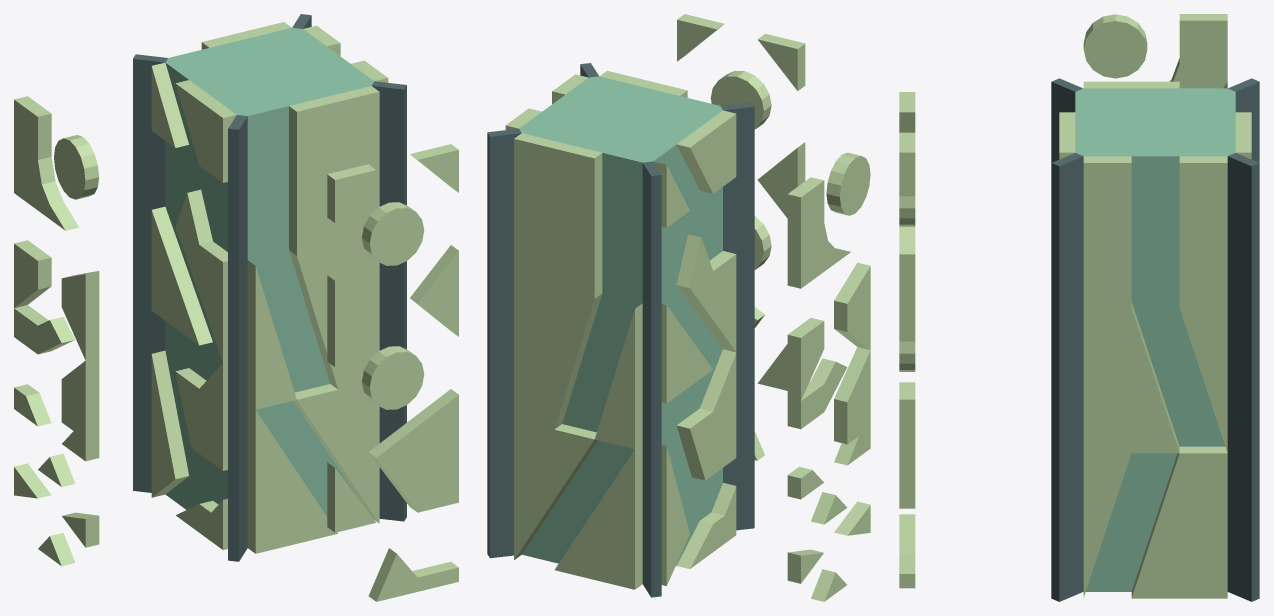
File: cryptex balls out deneme 05.fbx
3 views of the same model, side by side, from view 1: azimuth 30°, elevation 25°; view 2: azimuth 150°, elevation 25°; view 3: azimuth 270°, elevation 25° (orthographic). The views are drawn at different scales.
Parts seen in each view (by area): view 1: Cube.094, path 01.001, Cube.053, Cube.083, Cube.089, Cube.090, path 03.002, path 02.001, Cube.088, path 03.001, path 17.002, path 16.001 (+32 smaller); view 2: Cube.094, path 07.001, Cube.053, Cube.090, path 08.001, Cube.083, Cube.089, Cube.088, path 09.002, path 09.001, path 17.002, path 17.001 (+27 smaller); view 3: Cube.094, Cube.053, path 06.001, path 05.001, Cube.083, Cube.090, path 04.001, path 04.002, Cube.089, Cube.088, path 16.001, path 06.002 (+15 smaller).
Part boxes in pixels (left/top/right/bottom): Cube.094: left=165, top=27, right=374, bottom=259; path 01.001: left=289, top=86, right=379, bottom=255; Cube.053: left=133, top=14, right=406, bottom=273; Cube.083: left=133, top=203, right=406, bottom=417; Cube.089: left=165, top=207, right=329, bottom=392; Cube.090: left=133, top=347, right=406, bottom=561; path 03.002: left=247, top=404, right=337, bottom=553; path 02.001: left=289, top=240, right=379, bottom=389; Cube.088: left=165, top=351, right=361, bottom=516; path 03.001: left=294, top=384, right=379, bottom=523; path 17.002: left=61, top=278, right=99, bottom=439; path 16.001: left=14, top=96, right=79, bottom=230; Cube.094: left=519, top=76, right=722, bottom=302; path 07.001: left=514, top=133, right=602, bottom=298; Cube.053: left=487, top=63, right=754, bottom=316; Cube.090: left=487, top=388, right=754, bottom=597; path 08.001: left=514, top=279, right=601, bottom=429; Cube.083: left=487, top=247, right=754, bottom=456; Cube.089: left=562, top=285, right=722, bottom=435; Cube.088: left=522, top=425, right=722, bottom=565; path 09.002: left=554, top=444, right=642, bottom=589; path 09.001: left=514, top=420, right=597, bottom=559; path 17.002: left=834, top=287, right=870, bottom=444; path 17.001: left=787, top=318, right=847, bottom=429; Cube.094: left=1075, top=88, right=1235, bottom=301; Cube.053: left=1051, top=78, right=1259, bottom=311; path 06.001: left=1131, top=446, right=1227, bottom=598; path 05.001: left=1083, top=302, right=1179, bottom=453; Cube.083: left=1051, top=301, right=1259, bottom=456; Cube.090: left=1051, top=446, right=1259, bottom=601; path 04.001: left=1083, top=156, right=1131, bottom=308; path 04.002: left=1179, top=156, right=1227, bottom=308; Cube.089: left=1131, top=301, right=1225, bottom=446; Cube.088: left=1086, top=453, right=1177, bottom=591; path 16.001: left=1169, top=14, right=1227, bottom=88; path 06.002: left=1083, top=453, right=1131, bottom=597.
Bounding box in the file's own units: 450 × 600 × 450.
1 material, 1 textured.
